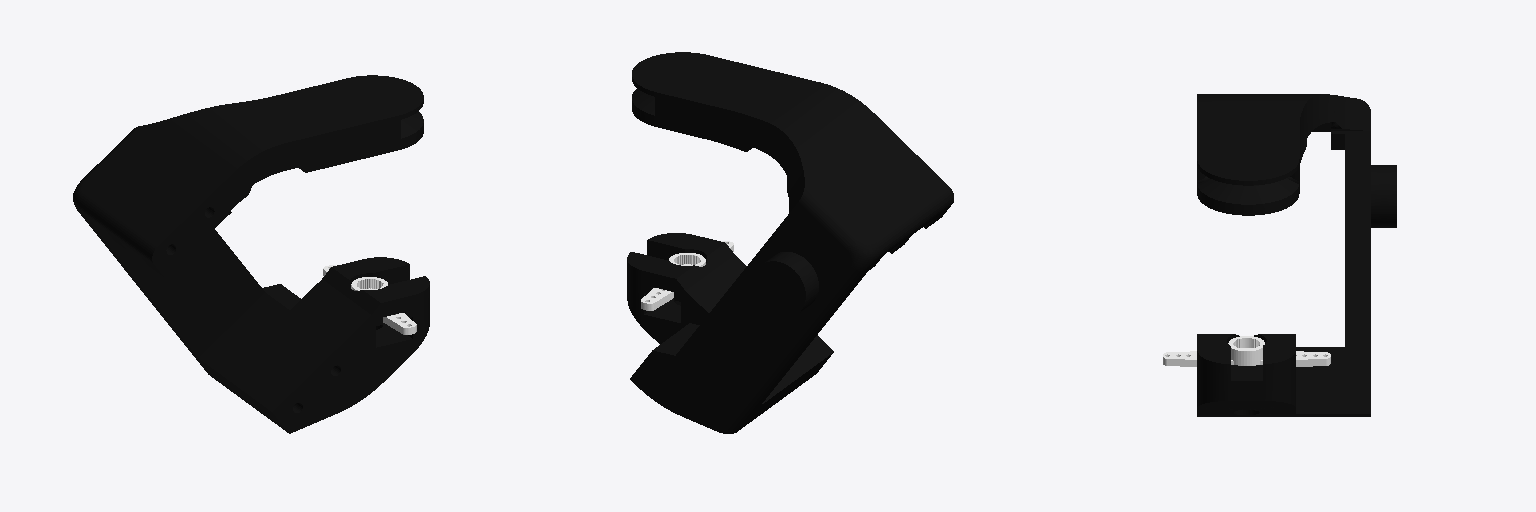
Rendered from LegUpper.obj.
The picture shows the model from 3 angles: view 1: azimuth 30°, elevation 25°; view 2: azimuth 150°, elevation 25°; view 3: azimuth 270°, elevation 25°; orthographic projection.
Visible parts, largest first — view 1: ServoHolderLarge, ServoHands; view 2: ServoHolderLarge, ServoHands; view 3: ServoHolderLarge, ServoHands.
Part boxes in pixels (bbox=[...]): ServoHolderLarge: bbox=[73, 75, 429, 433]; ServoHands: bbox=[323, 265, 416, 334]; ServoHolderLarge: bbox=[627, 52, 953, 433]; ServoHands: bbox=[641, 241, 733, 310]; ServoHolderLarge: bbox=[1197, 94, 1396, 416]; ServoHands: bbox=[1163, 336, 1330, 366].
Bounding box in the file's own units: 0.0636 × 0.0612 × 0.0446.